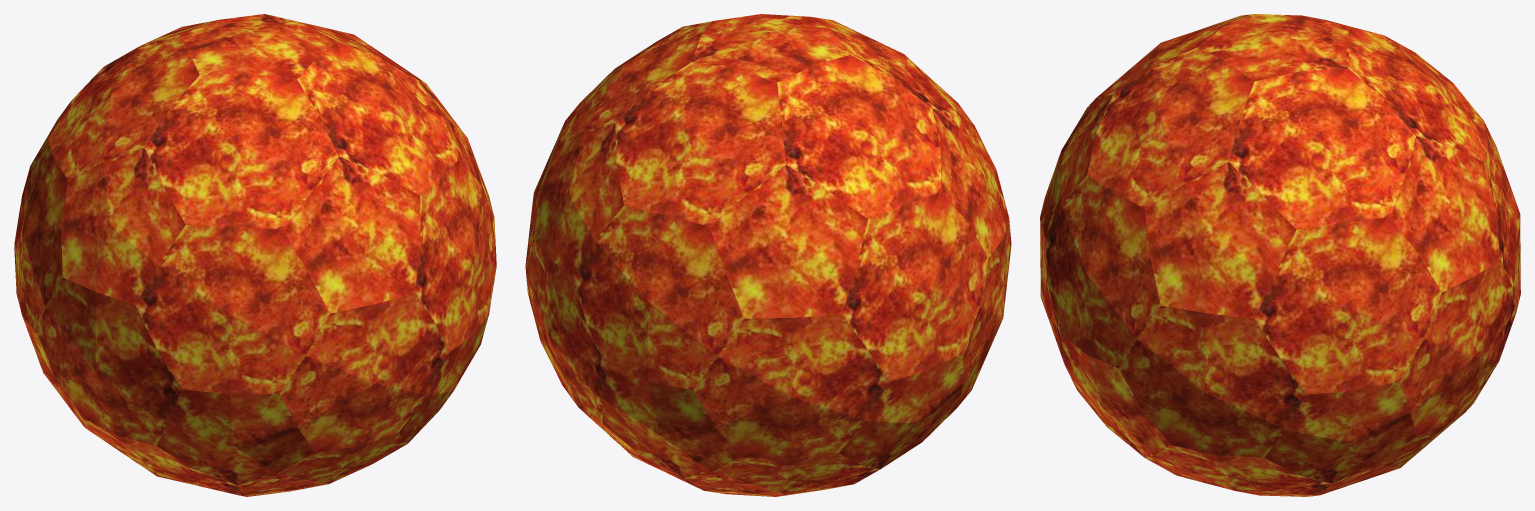
File: fireball.obj
3 views of the same model, side by side, from view 1: azimuth 30°, elevation 25°; view 2: azimuth 150°, elevation 25°; view 3: azimuth 270°, elevation 25° (orthographic).
Parts seen in each view (by area): view 1: soccer_bod; view 2: soccer_bod; view 3: soccer_bod.
Boxes of the visible parts, x1,y1,x2,y2 form: soccer_bod: [14, 14, 496, 496]; soccer_bod: [525, 14, 1011, 496]; soccer_bod: [1040, 14, 1520, 496].
Bounding box in the file's own units: 0.5679 × 0.5679 × 0.5591.
1 material, 1 textured.
